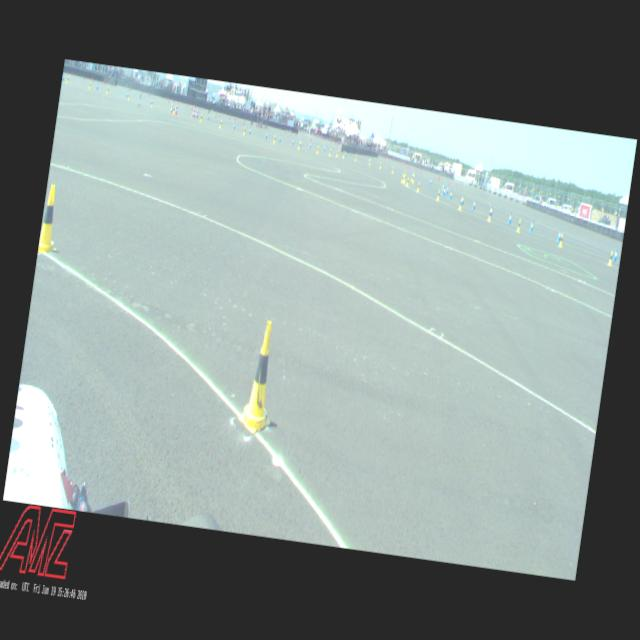blue_cone: (613, 248, 619, 262), (556, 229, 562, 242), (529, 220, 534, 232), (508, 212, 512, 225), (490, 206, 494, 217), (472, 200, 476, 210), (278, 134, 282, 143), (62, 73, 66, 82), (461, 194, 464, 205), (248, 127, 252, 135), (449, 190, 452, 200), (96, 83, 100, 90), (443, 187, 446, 196), (265, 132, 268, 140), (232, 122, 235, 130), (446, 186, 449, 194), (172, 104, 175, 112), (430, 177, 432, 186), (442, 186, 444, 195), (292, 138, 294, 146), (126, 90, 128, 98), (194, 110, 196, 118), (300, 140, 302, 148), (344, 150, 346, 158), (324, 145, 326, 152), (442, 183, 444, 190), (368, 158, 370, 165), (310, 142, 312, 148), (150, 98, 152, 104), (412, 172, 414, 178)
large_orange_cone: (174, 101, 178, 115), (196, 106, 200, 119), (192, 106, 196, 118), (170, 100, 173, 114)
yellow_cone: (236, 318, 284, 435), (38, 184, 65, 254), (607, 250, 614, 268), (558, 232, 564, 248), (487, 206, 493, 222), (516, 219, 522, 234), (436, 189, 441, 202), (416, 181, 421, 193), (458, 198, 463, 210), (66, 74, 70, 84), (328, 148, 332, 157), (106, 86, 110, 94), (354, 154, 358, 162), (368, 158, 372, 166), (342, 150, 346, 158), (243, 126, 246, 136), (406, 177, 409, 187), (401, 174, 404, 184), (173, 104, 176, 114), (89, 81, 92, 90), (316, 146, 319, 154), (200, 114, 203, 122), (336, 150, 339, 158), (151, 100, 154, 108), (410, 174, 413, 182), (403, 170, 406, 178), (379, 162, 382, 169), (274, 134, 276, 144), (220, 120, 222, 129), (412, 174, 414, 183), (404, 174, 406, 183), (392, 166, 394, 174), (298, 142, 300, 150), (128, 93, 130, 101)
